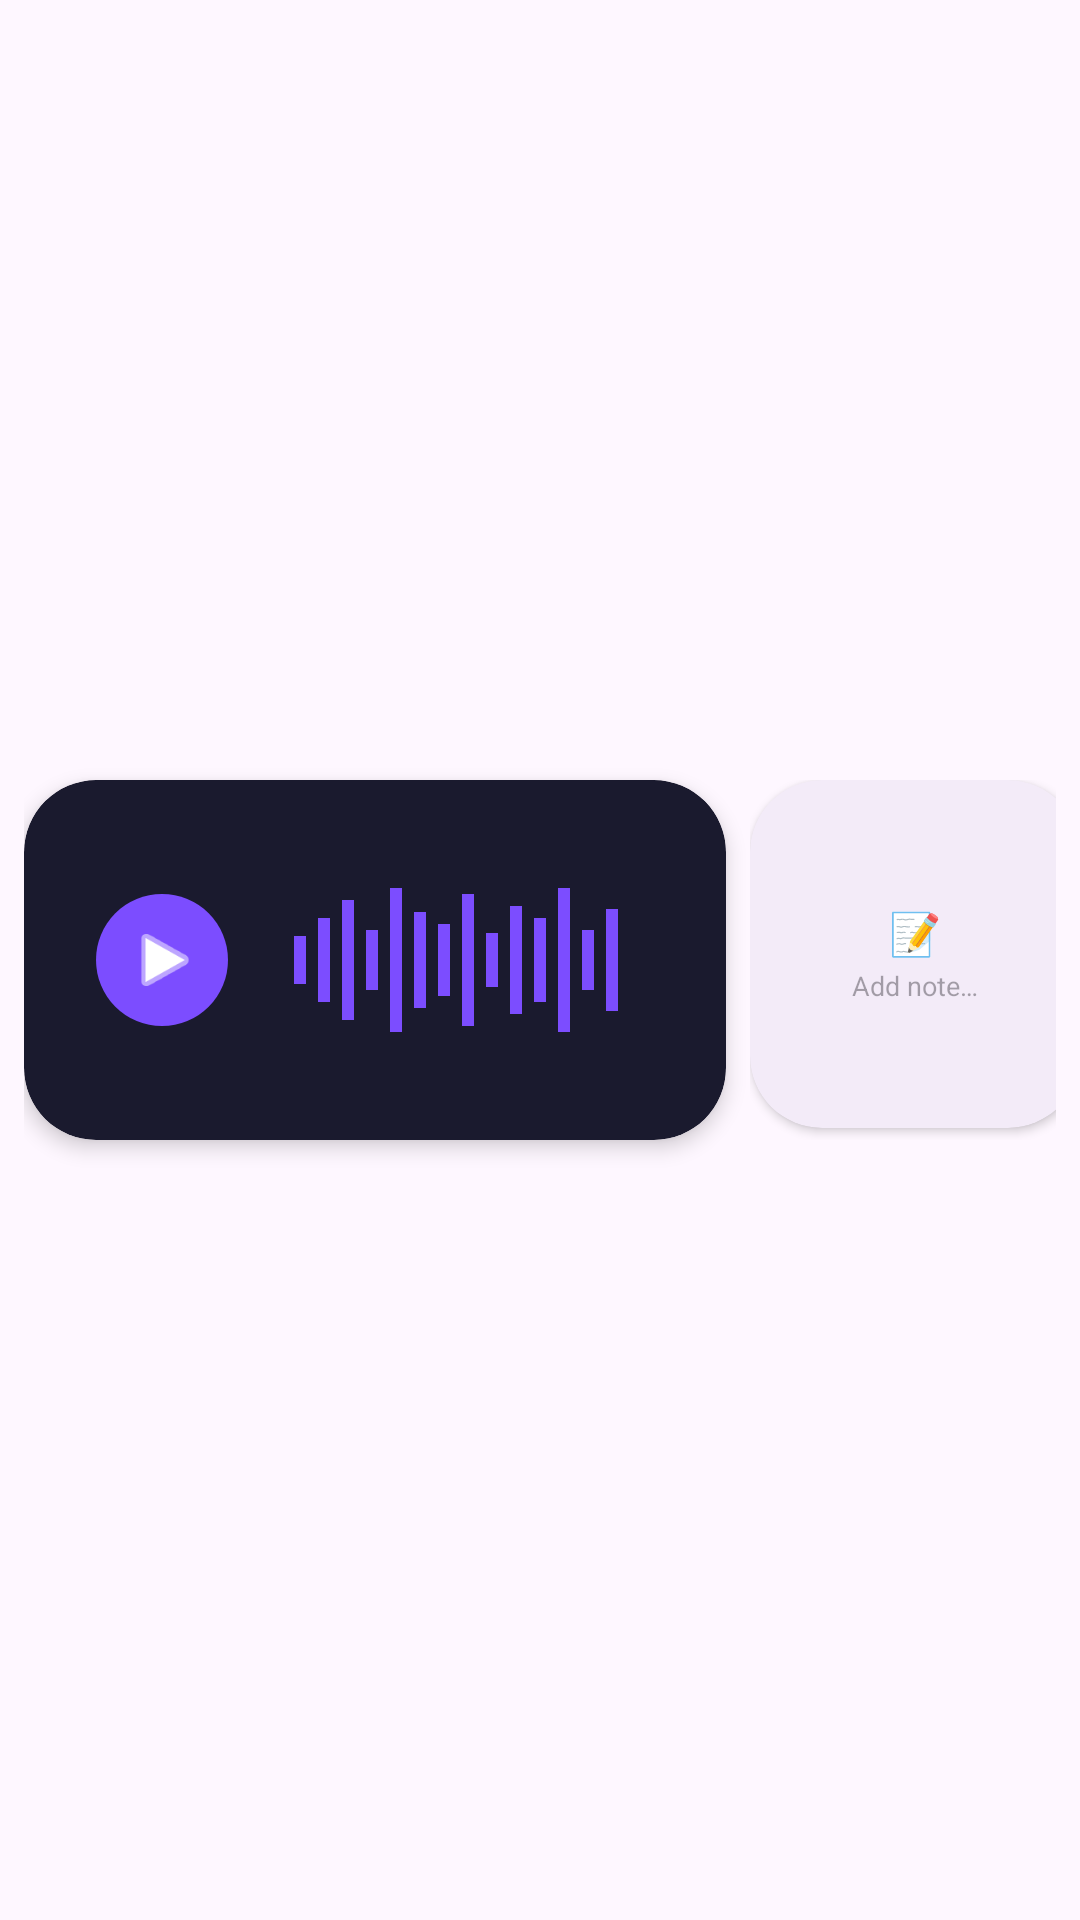

Where icons sit on this 1080w x 1920h app screen, as (x1, y1, x2, y2):
play: (96, 894, 228, 1026)
